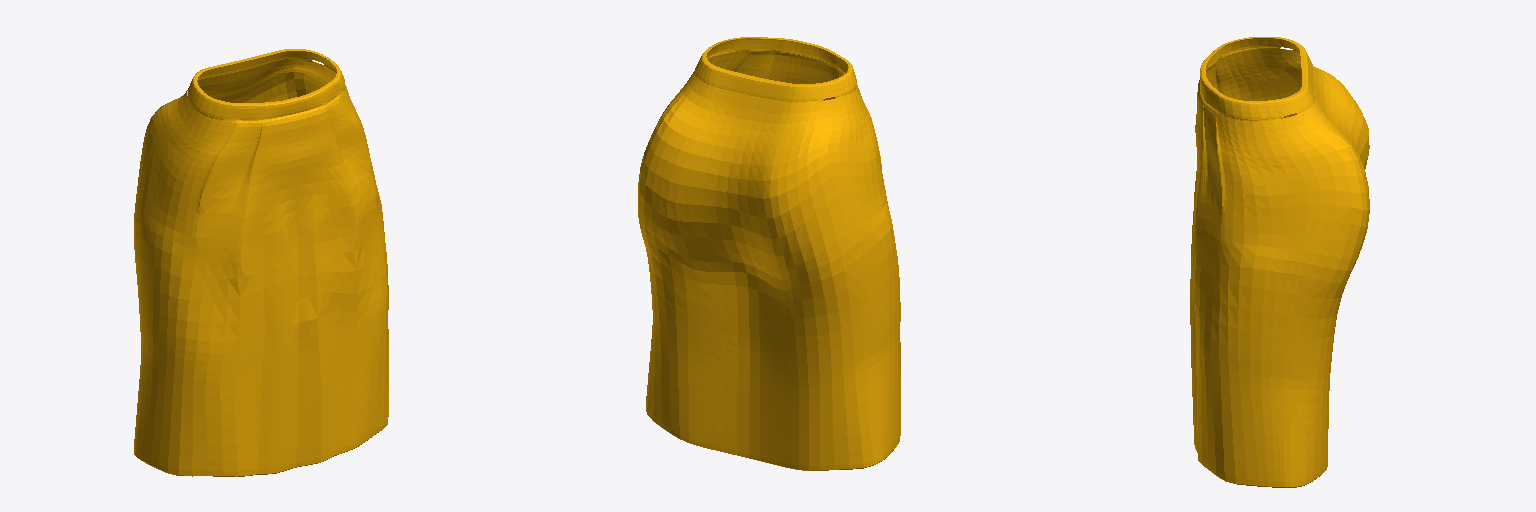
Rendered from baotunqun2.obj.
3 views of the same model, side by side, from view 1: azimuth 30°, elevation 25°; view 2: azimuth 150°, elevation 25°; view 3: azimuth 270°, elevation 25° (orthographic).
Parts seen in each view (by area): view 1: file; view 2: file; view 3: file.
Boxes of the visible parts, x1=… form: file: x1=134, y1=49, x2=388, y2=476; file: x1=638, y1=37, x2=900, y2=470; file: x1=1190, y1=37, x2=1369, y2=487.
Bounding box in the file's own units: 3.92 × 6.02 × 2.6.